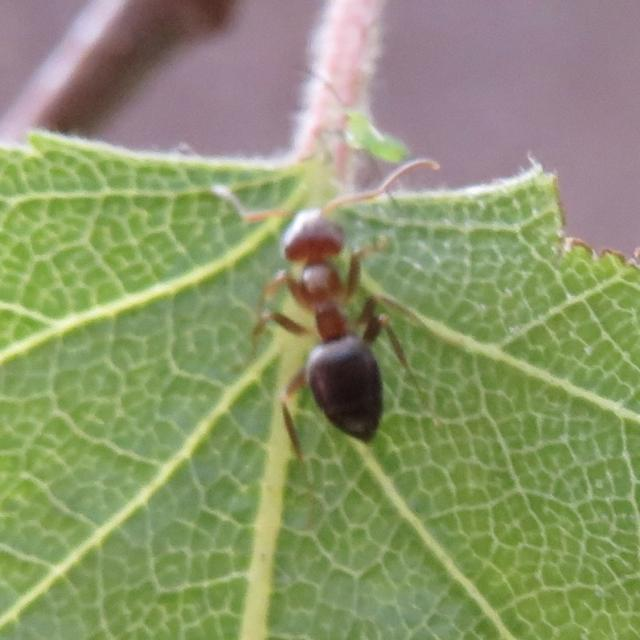Lasius: (210, 128, 398, 446)
